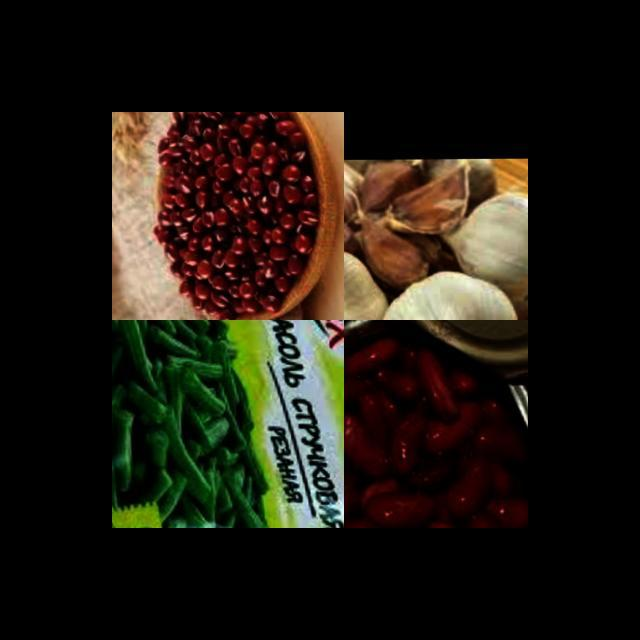garlic: (440, 186, 528, 320), (370, 269, 527, 320), (380, 158, 477, 240), (346, 208, 432, 283), (344, 158, 399, 212)
